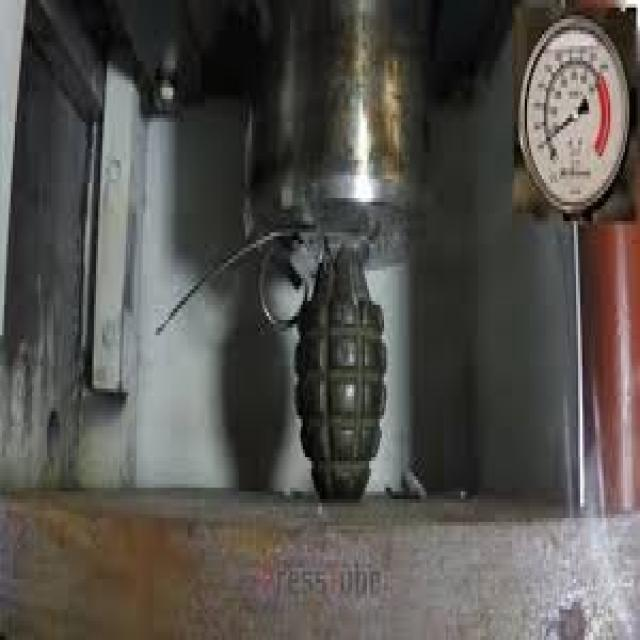grenade: (254, 228, 394, 503)
